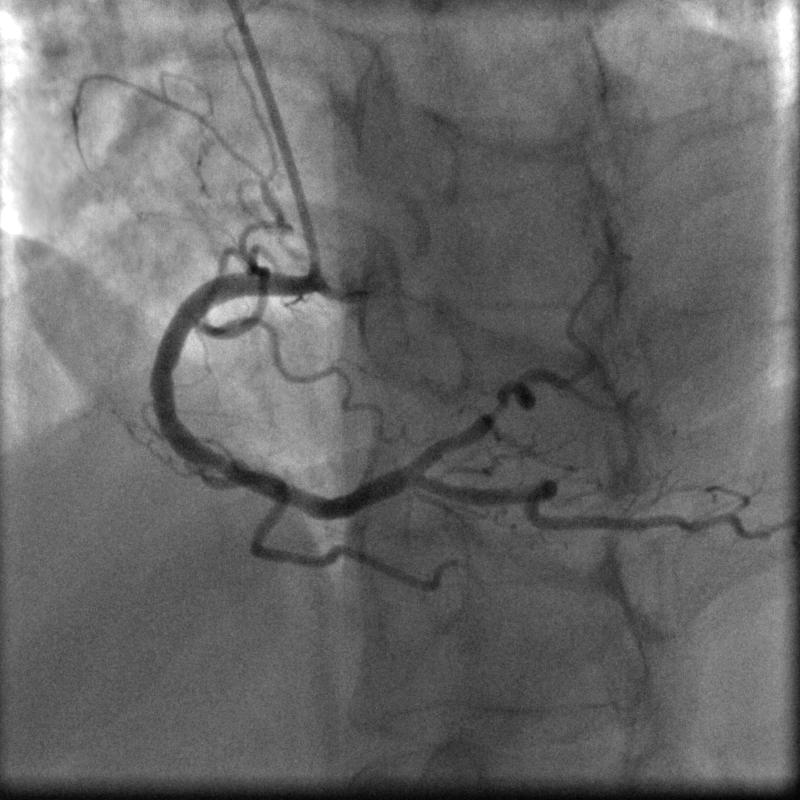Stenosis: (475, 387, 510, 428)
